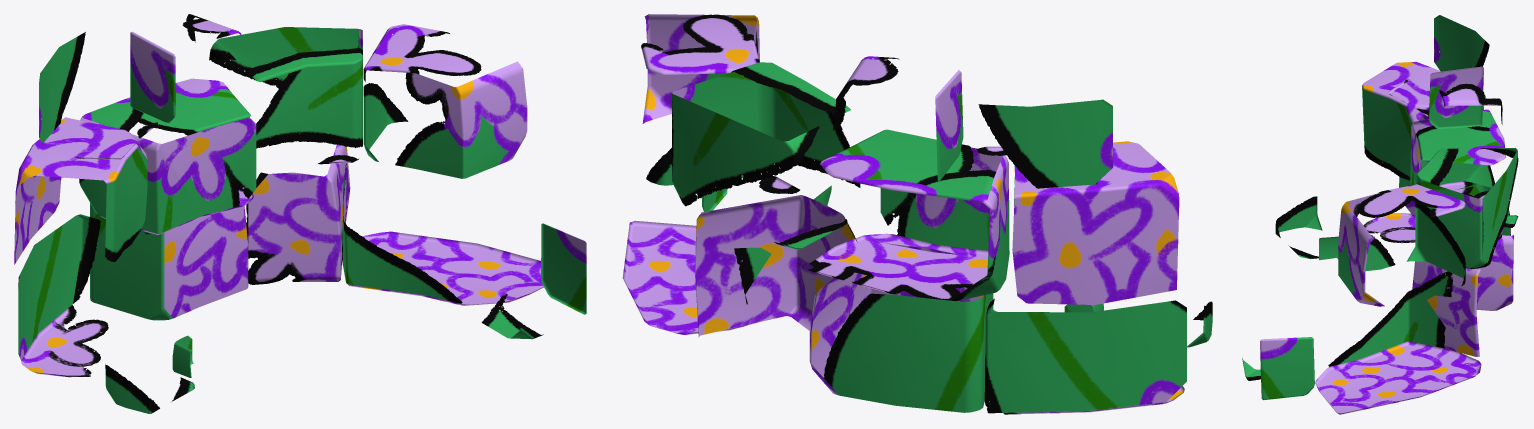
File: WallRound.fbx
3 views of the same model, side by side, from view 1: azimuth 30°, elevation 25°; view 2: azimuth 150°, elevation 25°; view 3: azimuth 270°, elevation 25° (orthographic). The views are drawn at different scales.
Parts seen in each view (by area): view 1: WallRound; view 2: WallRound; view 3: WallRound.
Part boxes in pixels (x1,y1,x2,y2): WallRound: (14, 14, 586, 413); WallRound: (622, 14, 1212, 414); WallRound: (1242, 15, 1518, 414).
Size of the model in its own units: 400 by 201 by 232.
